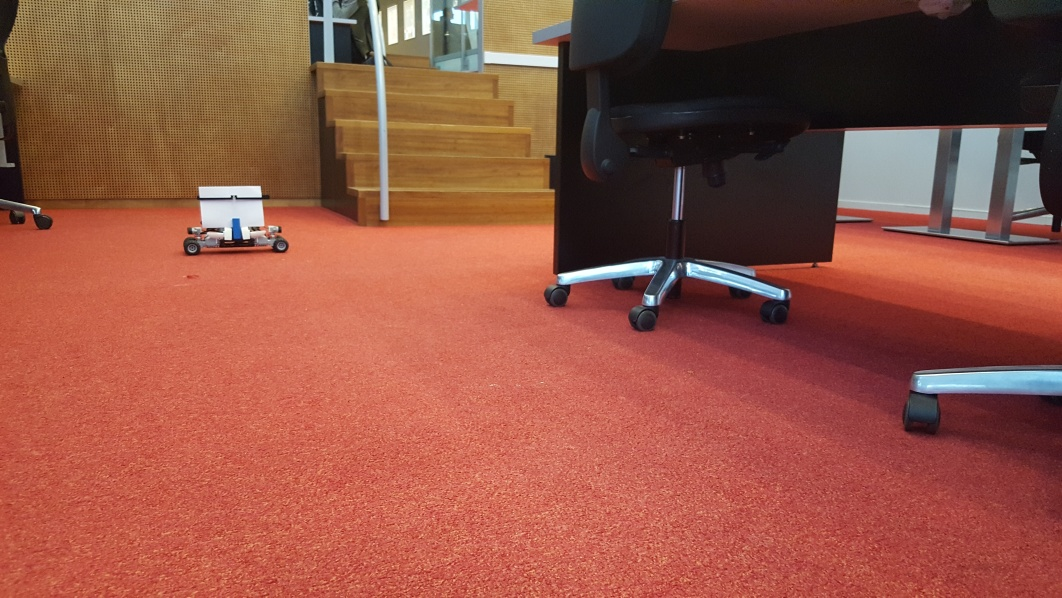car: (185, 184, 288, 257)
